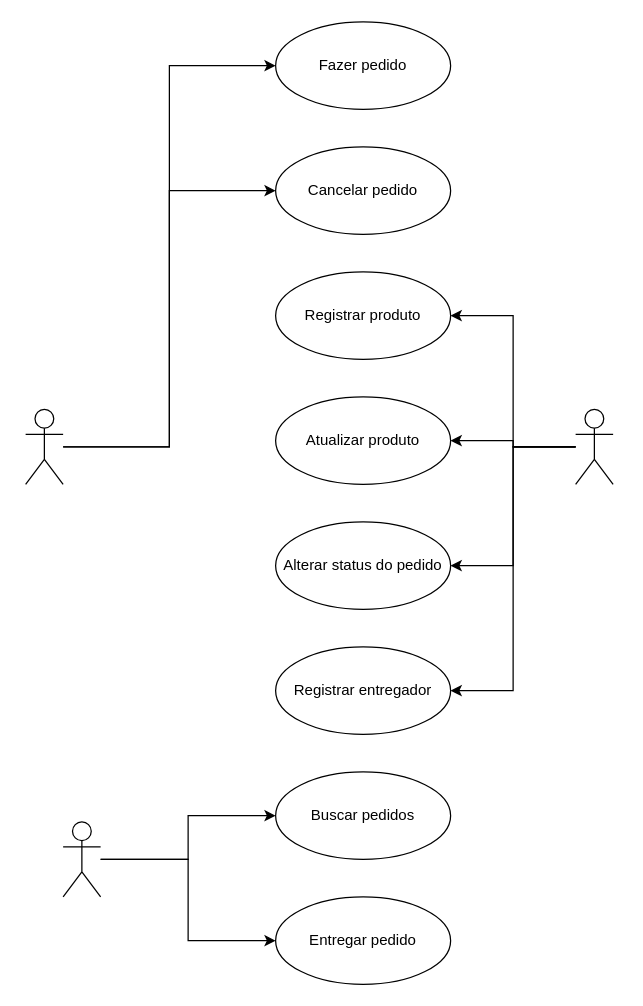
Image size: 643x1006. Some labels were removed from this diagram. Here are the shapes that lost their labels. From the top down, the centre of each, then its label:
At (x=43, y=446): "Cliente".
At (x=593, y=446): "Gerente".
At (x=81, y=859): "Entregador".
